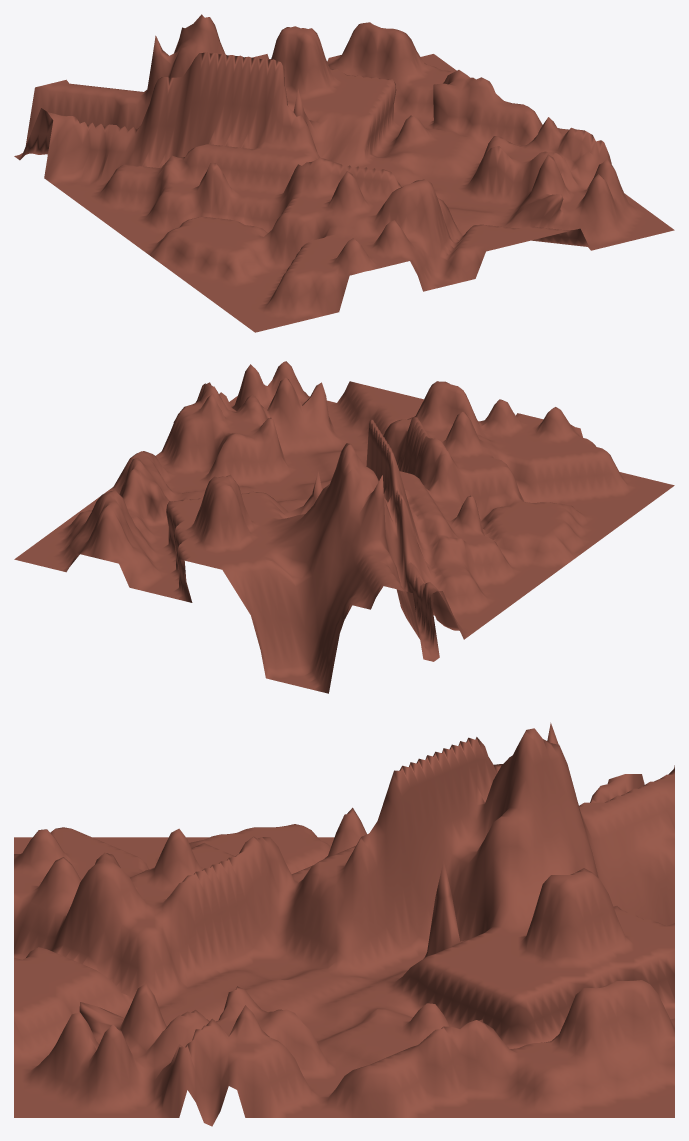
The model's file is landscape.fbx.
3 renders of one model, top to bottom at view 1: azimuth 30°, elevation 25°; view 2: azimuth 150°, elevation 25°; view 3: azimuth 270°, elevation 25°, orthographic. The views are drawn at different scales.
Visible parts, largest first — view 1: pPlane1; view 2: pPlane1; view 3: pPlane1.
Part boxes in pixels (left/top/right/bottom): pPlane1: left=14, top=14, right=674, bottom=332; pPlane1: left=14, top=361, right=674, bottom=693; pPlane1: left=14, top=722, right=674, bottom=1126.
Bounding box in the file's own units: 100 × 46.57 × 100.
